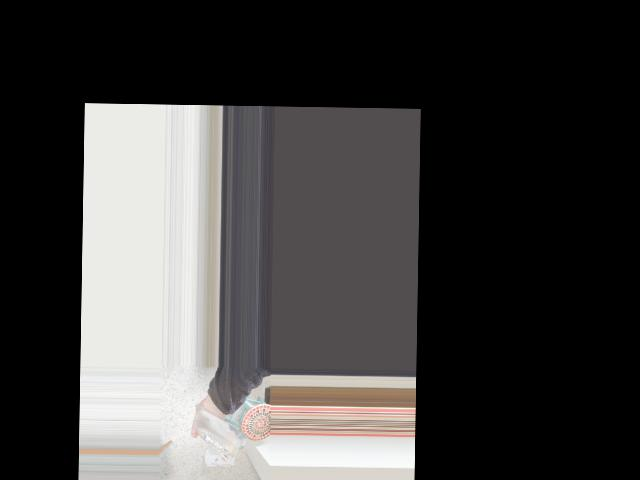cheese: (186, 399, 264, 473)
